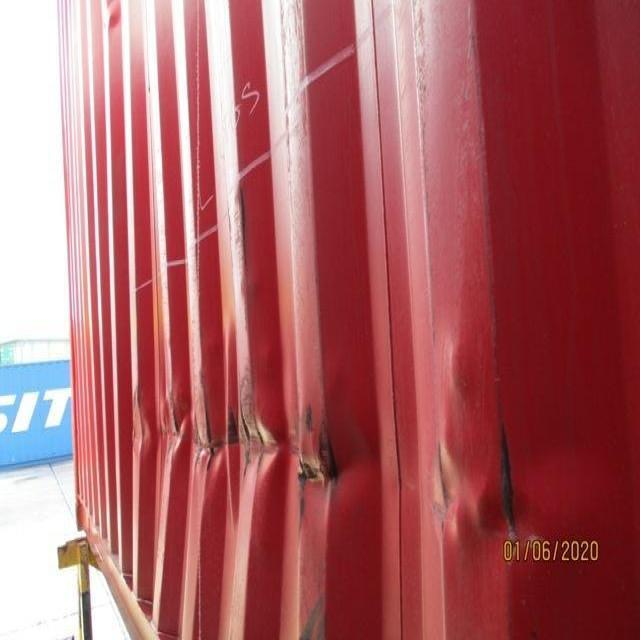dent: (114, 330, 561, 604)
